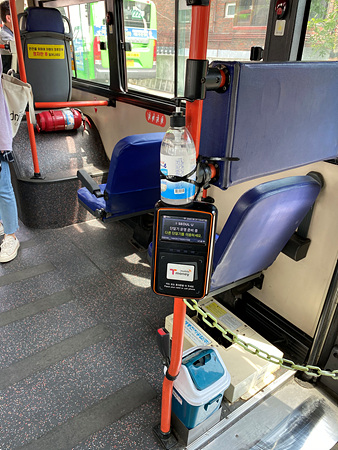terminal: (153, 198, 212, 298)
